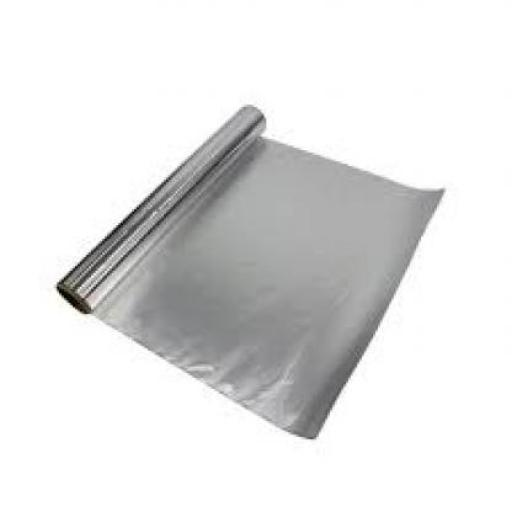metal: (57, 100, 446, 439)
